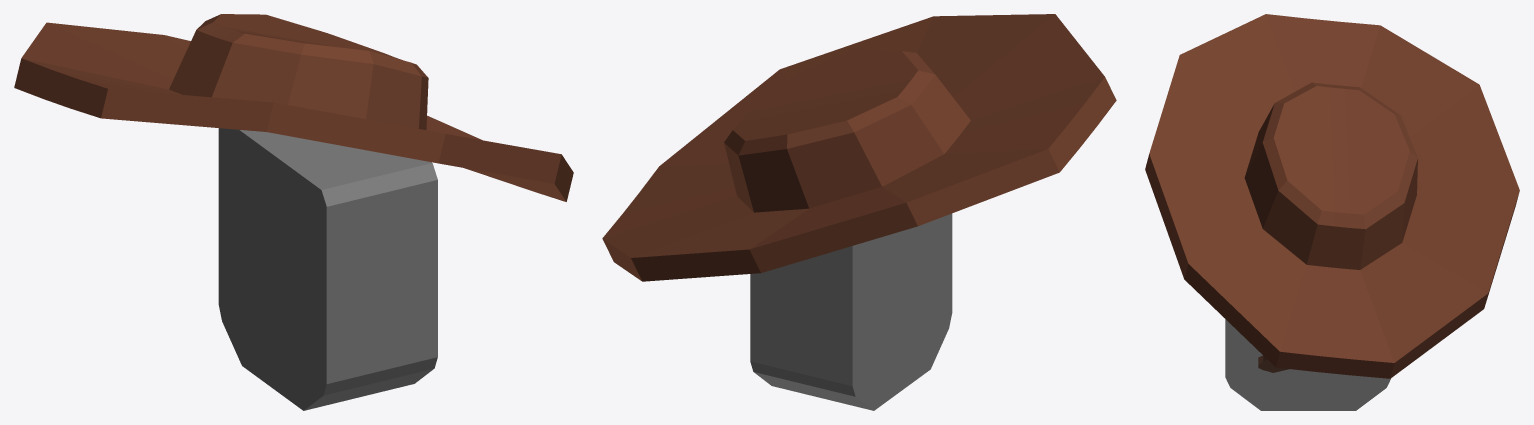
The model's file is HeadHunter.fbx.
3 renders of one model, left to right at view 1: azimuth 30°, elevation 25°; view 2: azimuth 150°, elevation 25°; view 3: azimuth 270°, elevation 25°, orthographic. The views are drawn at different scales.
Parts seen in each view (by area): view 1: Cube, Cylinder; view 2: Cylinder, Cube; view 3: Cylinder, Cube.
Part boxes in pixels (x1,y1,x2,y2): Cube: (218,128,437,410); Cylinder: (14,14,573,201); Cylinder: (602,14,1116,281); Cube: (750,213,952,410); Cylinder: (1145,14,1519,378); Cube: (1225,319,1390,410).
Bounding box in the file's own units: 436 × 308 × 369.
